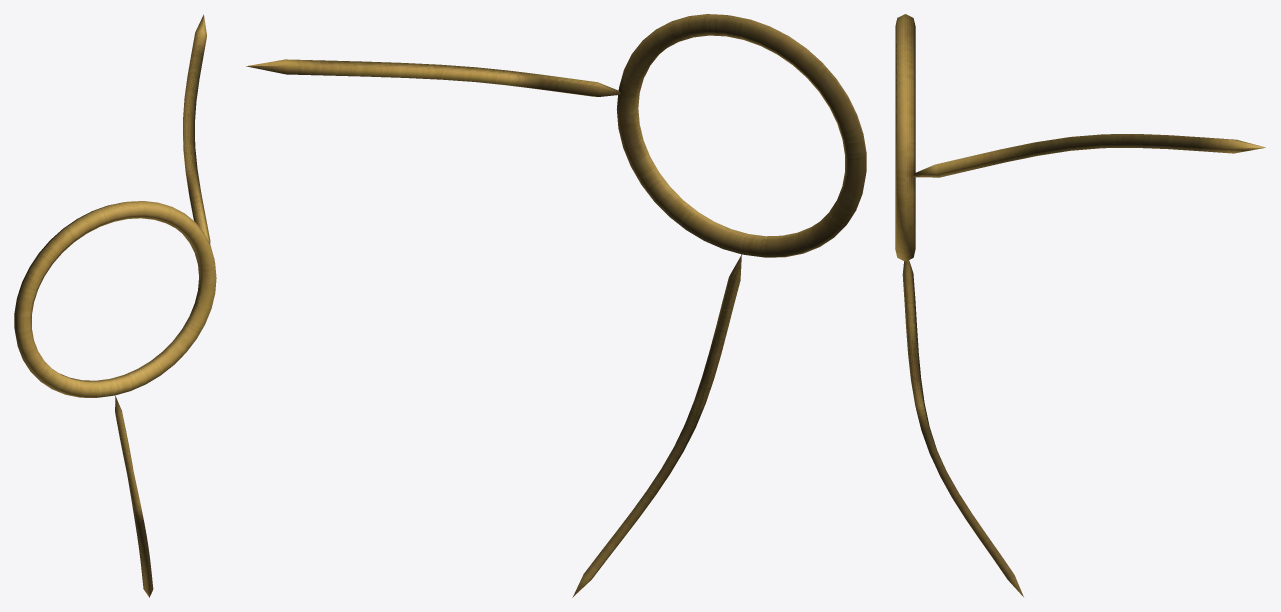
Rendered from monocle.glb.
3 renders of one model, left to right at view 1: azimuth 30°, elevation 25°; view 2: azimuth 150°, elevation 25°; view 3: azimuth 270°, elevation 25°, orthographic. The views are drawn at different scales.
Parts seen in each view (by area): view 1: monocle_rimr, monocle_armr, monocle_chain; view 2: monocle_rimr, monocle_armr, monocle_chain; view 3: monocle_rimr, monocle_armr, monocle_chain.
Boxes of the visible parts, left/top/right/bottom form: monocle_rimr: left=14, top=201, right=216, bottom=397; monocle_armr: left=183, top=14, right=210, bottom=244; monocle_chain: left=115, top=396, right=153, bottom=597; monocle_rimr: left=616, top=14, right=866, bottom=257; monocle_armr: left=246, top=59, right=620, bottom=96; monocle_chain: left=572, top=254, right=741, bottom=597; monocle_rimr: left=895, top=14, right=915, bottom=261; monocle_armr: left=913, top=134, right=1265, bottom=177; monocle_chain: left=902, top=260, right=1023, bottom=596.
Size of the model in its own units: 11.88 by 15.38 by 9.59.
Materials: 1 (1 with a texture image).
